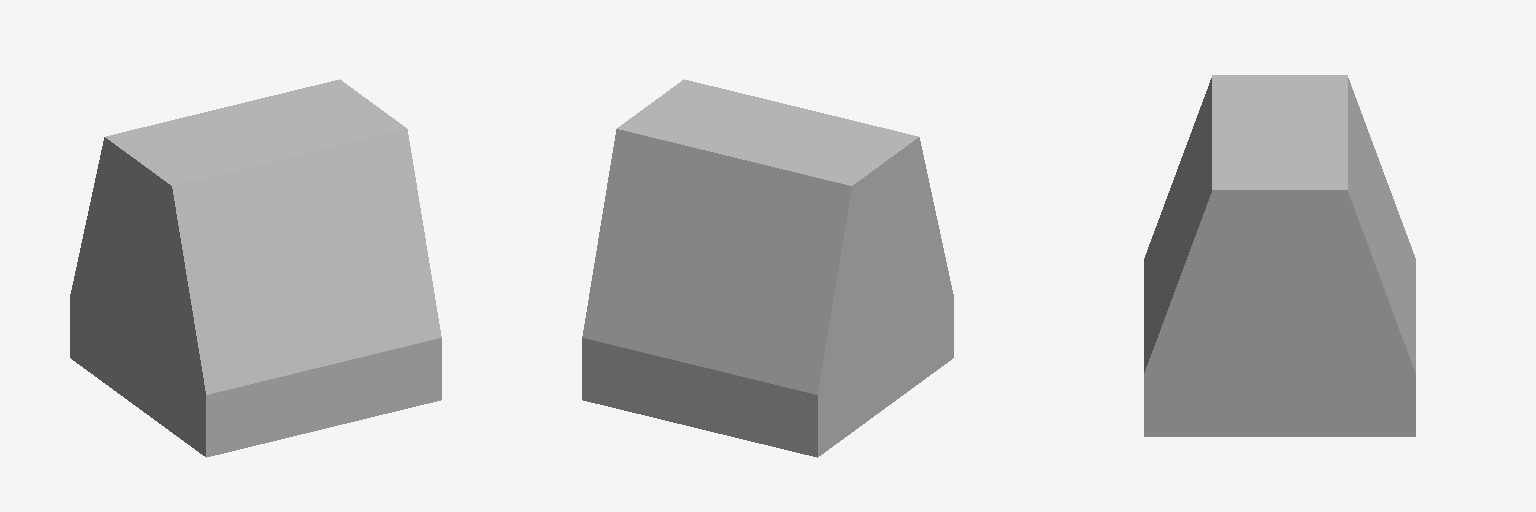
Rendered from wall.obj.
3 views of the same model, side by side, from view 1: azimuth 30°, elevation 25°; view 2: azimuth 150°, elevation 25°; view 3: azimuth 270°, elevation 25° (orthographic).
Visible parts, largest first — view 1: Cube; view 2: Cube; view 3: Cube.
Boxes of the visible parts, x1,y1,x2,y2 form: Cube: [70, 79, 441, 457]; Cube: [582, 79, 953, 457]; Cube: [1144, 75, 1415, 436].
Bounding box in the file's own units: 2 × 2 × 2.